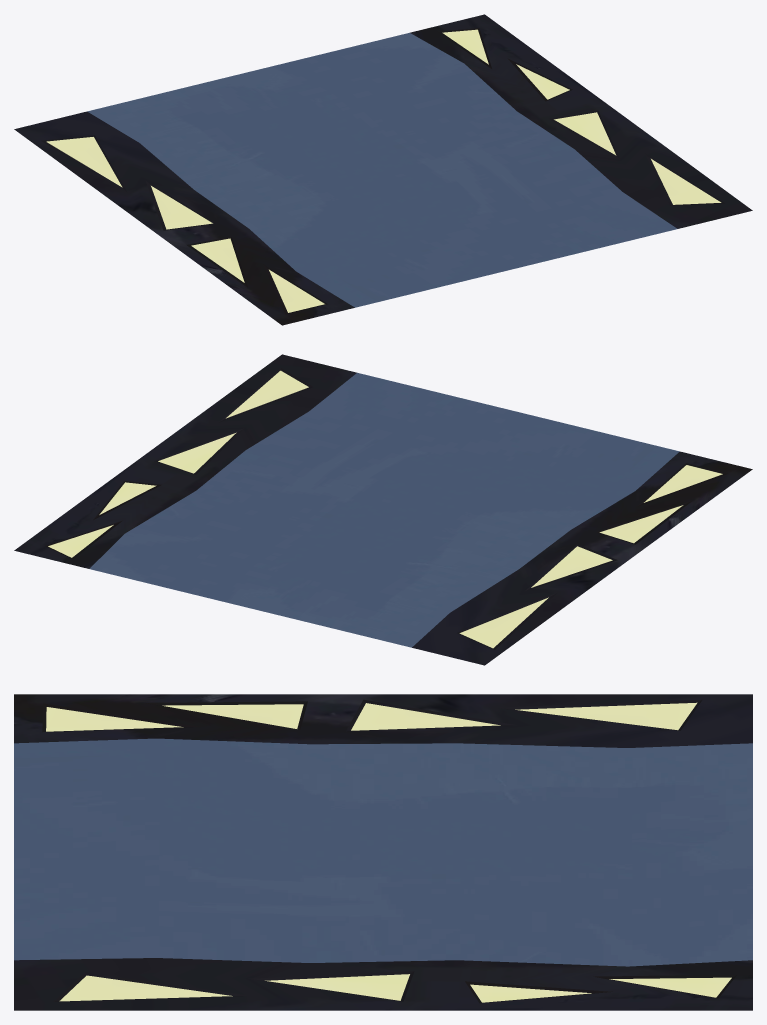
The model's file is pm-terrain-path-01.glb.
3 views of the same model, one above another, from view 1: azimuth 30°, elevation 25°; view 2: azimuth 150°, elevation 25°; view 3: azimuth 270°, elevation 25° (orthographic). The views are drawn at different scales.
Visible parts, largest first — view 1: TerrainPath01_Art; view 2: TerrainPath01_Art; view 3: TerrainPath01_Art.
Part boxes in pixels (box(x1,y1,x2,y2)): TerrainPath01_Art: box(14, 14, 752, 325); TerrainPath01_Art: box(14, 354, 752, 665); TerrainPath01_Art: box(14, 694, 752, 1010).
Bounding box in the file's own units: 2.03 × 0.00198 × 2.
Materials: 1 (1 with a texture image).
